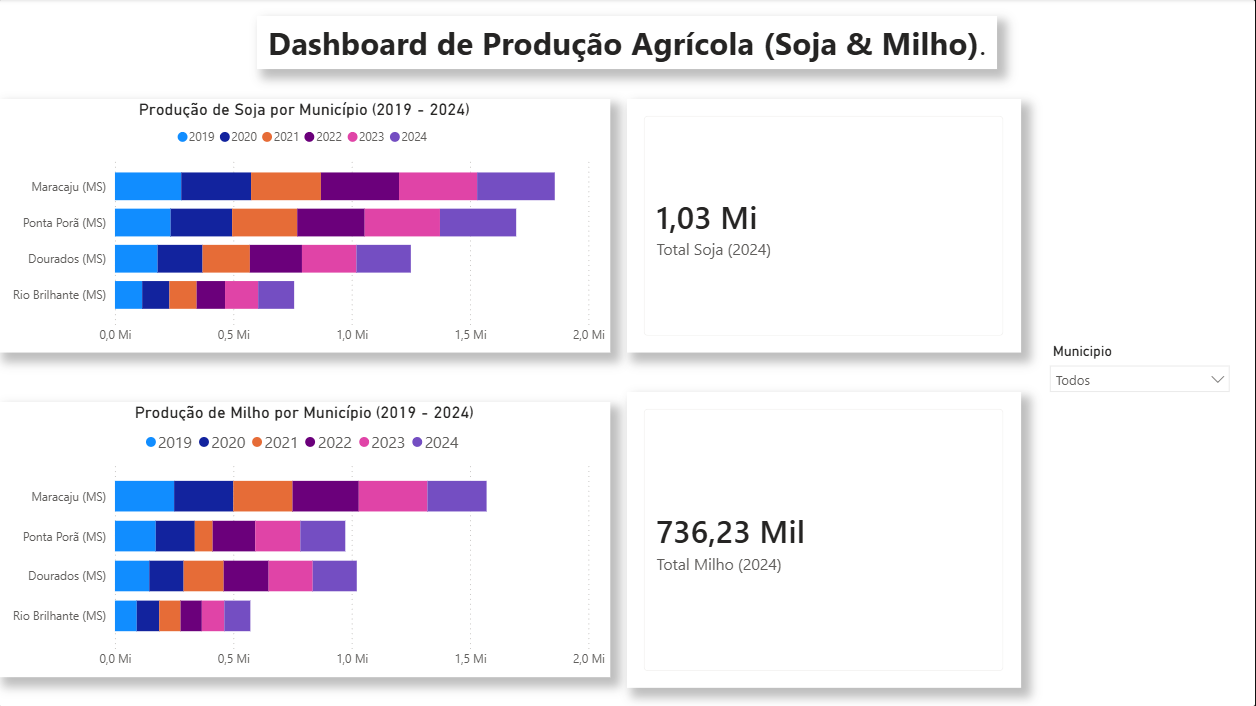

This screenshot's page, from the dashboard's own definition file:
{"tool":"powerbi","page":{"name":"Página 1","canvas":[1280,720],"ordinal":0},"visuals":[{"type":"barChart","title":"Produção de Soja por Município (2019 - 2024)","fields":{"Category":["public vw_producao_limpa.municipio"],"Y":["Sum(public vw_producao_limpa.soja_2019)","Sum(public vw_producao_limpa.soja_2020)","Sum(public vw_producao_limpa.soja_2021)","Sum(public vw_producao_limpa.soja_2022)","Sum(public vw_producao_limpa.soja_2023)","Sum(public vw_producao_limpa.soja_2024)"]},"box":[0,101.7,622.7,258.4],"z":0},{"type":"barChart","title":"Produção de Milho por Município (2019 - 2024)","fields":{"Category":["public vw_producao_limpa.municipio"],"Y":["Sum(public vw_producao_limpa.milho_2019)","Sum(public vw_producao_limpa.milho_2020)","Sum(public vw_producao_limpa.milho_2021)","Sum(public vw_producao_limpa.milho_2022)","Sum(public vw_producao_limpa.milho_2023)","Sum(public vw_producao_limpa.milho_2024)"]},"box":[0,410,622.7,279.8],"z":1},{"type":"slicer","fields":{"Values":["public vw_producao_limpa.municipio"]},"box":[1060.2,344.9,203.5,73.3],"z":2},{"type":"cardVisual","fields":{"Data":["Sum(public vw_producao_limpa.soja_2024)"]},"box":[640,101.7,400.9,258.4],"z":3},{"type":"cardVisual","fields":{"Data":["Sum(public vw_producao_limpa.milho_2024)"]},"box":[640,399.9,400.9,301.2],"z":4},{"type":"textbox","box":[263.5,17.3,752.9,53.9],"z":5}]}

Visuals, with their boxes in screenshot pixels (x1, y1, x2, y2), scaled from the page's 1280x720 canvas onto the 1256x706 screenshot:
"Produção de Soja por Município (2019 - 2024)" barChart: 0, 100, 611, 353
"Produção de Milho por Município (2019 - 2024)" barChart: 0, 402, 611, 676
slicer - public vw_producao_limpa.municipio: 1040, 338, 1240, 410
cardVisual - Sum(public vw_producao_limpa.soja_2024): 628, 100, 1021, 353
cardVisual - Sum(public vw_producao_limpa.milho_2024): 628, 392, 1021, 687
textbox: 259, 17, 997, 70
